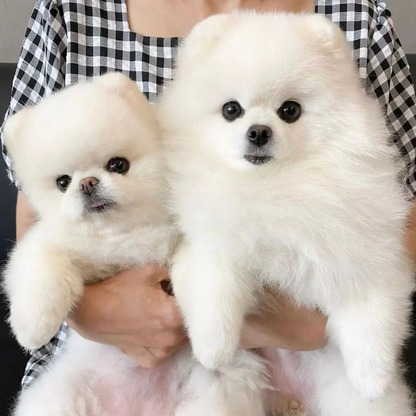Pomeranian: (185, 24, 402, 374), (4, 67, 179, 282)
